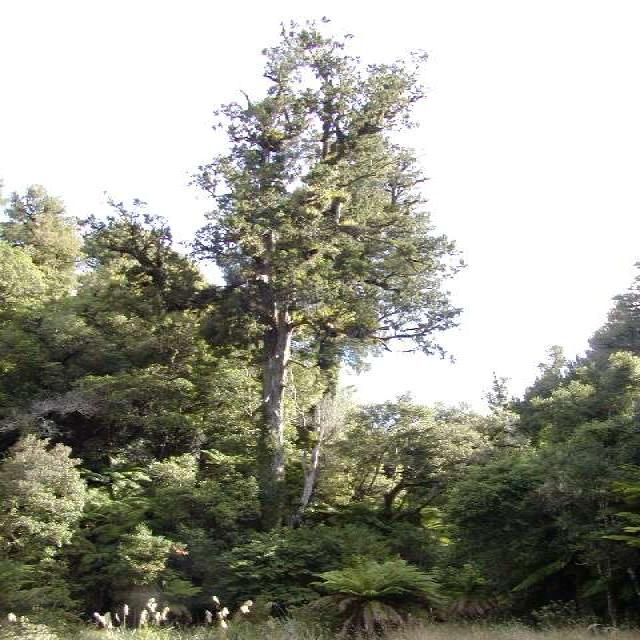Rimu: (217, 24, 398, 504)
